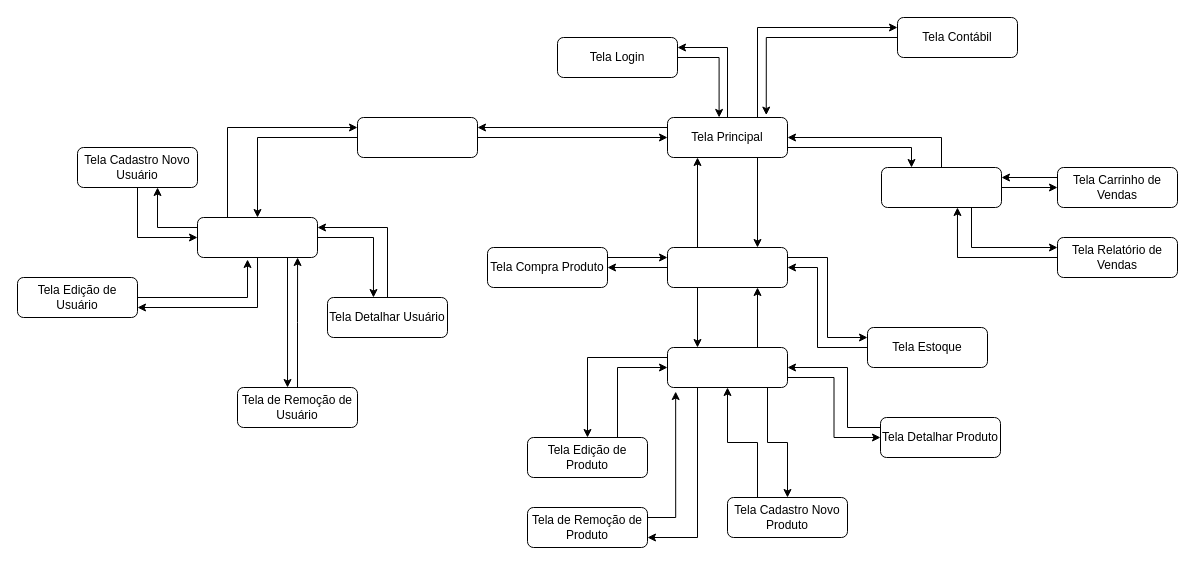
The diagram is 1195 pixels wide and 565 high, and some of its shapes have lost their labels. The shapes that lost their labels are listed below. From the top down, each one's centre as x and y in pixels, then its label:
At (x=417, y=137): "Tela RH".
At (x=941, y=187): "Tela Vendas".
At (x=257, y=237): "Tela Cadastro de Usuários".
At (x=727, y=267): "Tela Produtos".
At (x=727, y=367): "Tela Cadastro de Produtos".
